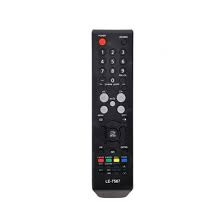remote control: (88, 29, 136, 209)
